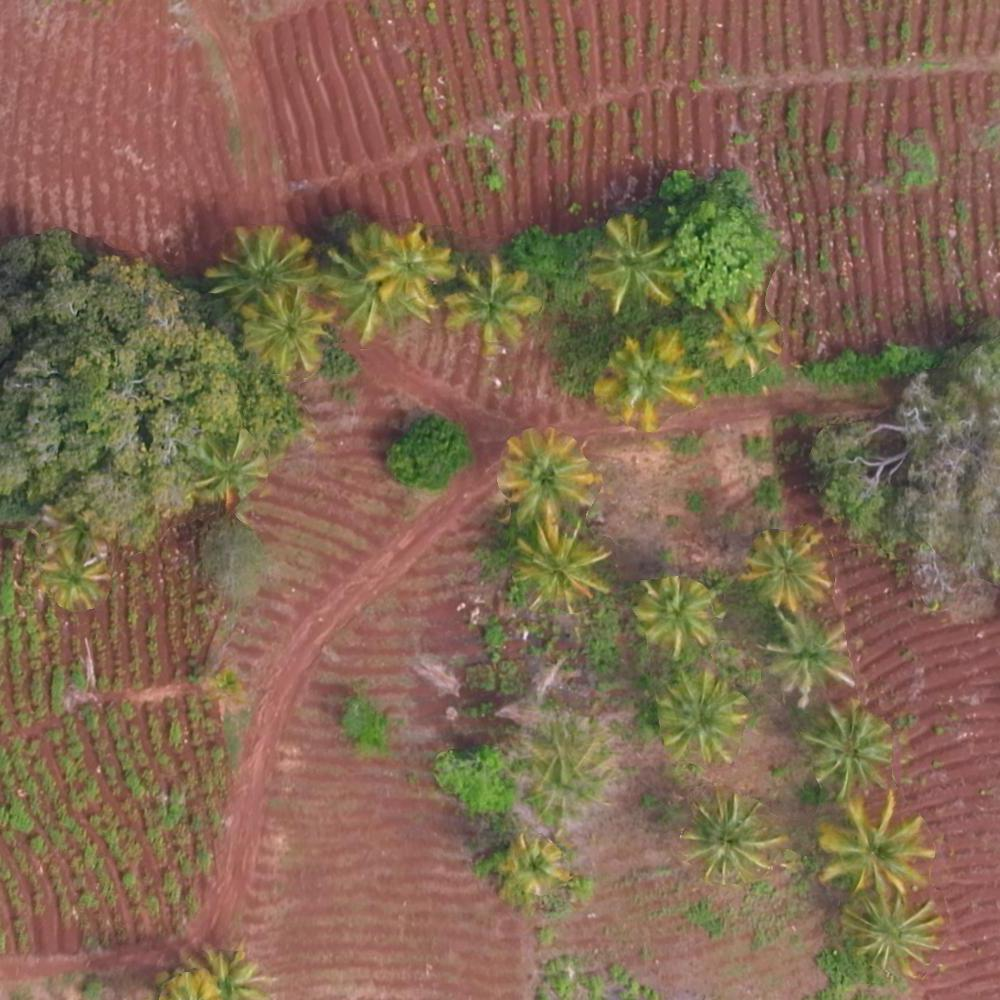Palm: (322, 231, 428, 340), (817, 800, 928, 892), (515, 523, 615, 610), (597, 336, 697, 422), (800, 705, 900, 791), (443, 258, 539, 347), (761, 614, 857, 702), (658, 672, 749, 764), (214, 225, 316, 307), (840, 893, 938, 975), (499, 433, 593, 518), (587, 219, 680, 302), (245, 294, 330, 377), (635, 576, 723, 656), (688, 800, 777, 877), (746, 530, 824, 608), (368, 230, 446, 307), (182, 431, 266, 502), (711, 297, 780, 368), (41, 542, 108, 606)
